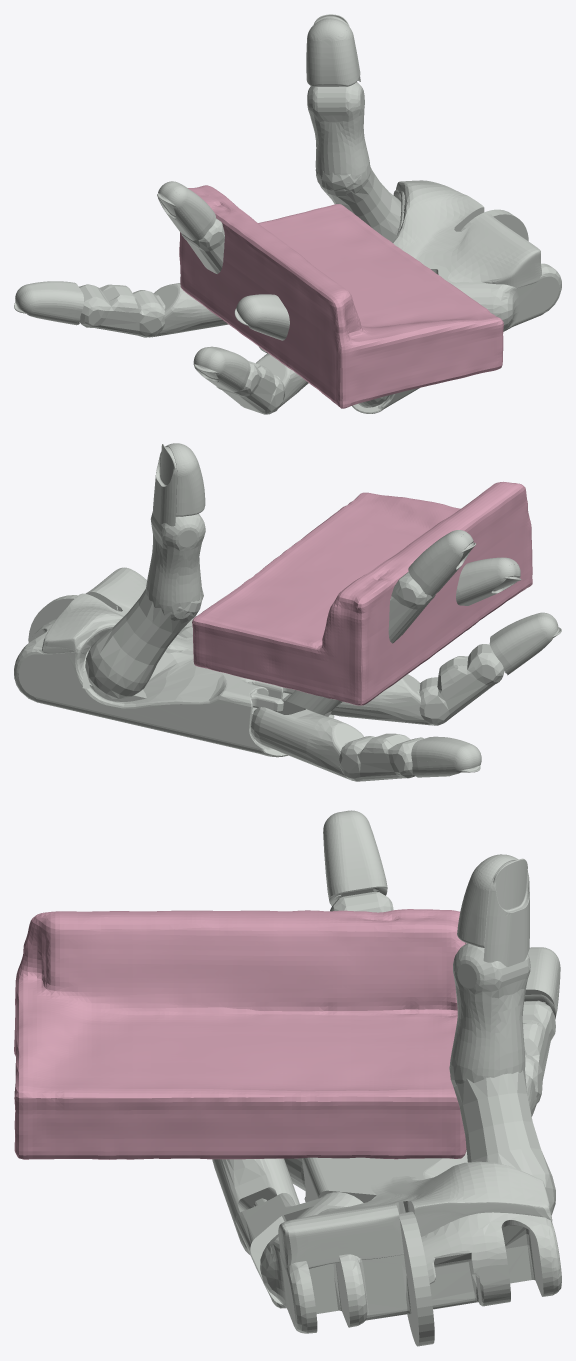
3 renders of one model, top to bottom at view 1: azimuth 30°, elevation 25°; view 2: azimuth 150°, elevation 25°; view 3: azimuth 270°, elevation 25°, orthographic. The views are drawn at different scales.
Parts seen in each view (by area): view 1: hand_isaac_q, world; view 2: hand_isaac_q, world; view 3: world, hand_isaac_q.
Boxes of the visible parts, bbox=[...] form: hand_isaac_q: bbox=[14, 14, 561, 414]; world: bbox=[179, 185, 503, 408]; hand_isaac_q: bbox=[14, 443, 561, 781]; world: bbox=[192, 481, 532, 705]; world: bbox=[14, 909, 466, 1159]; hand_isaac_q: bbox=[212, 810, 561, 1346].
Bounding box in the file's own units: 0.2177 × 0.1426 × 0.1593.
